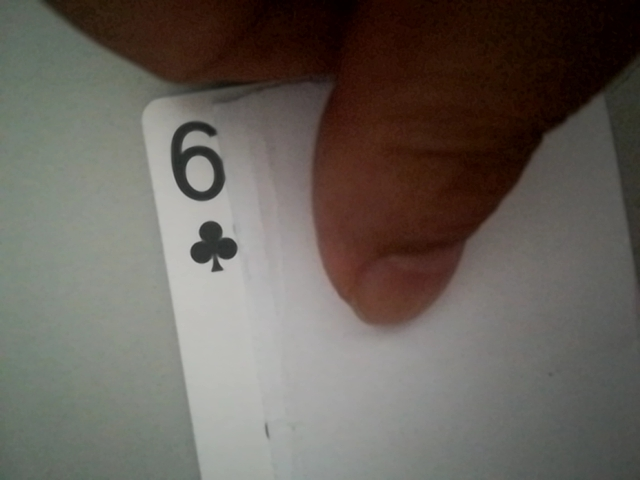mh 6: (158, 116, 250, 276)
